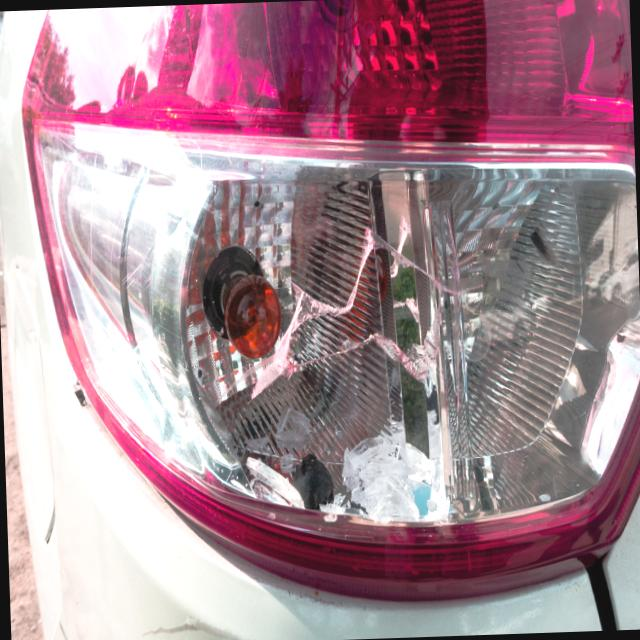Phare abime: (231, 236, 463, 436)
Rayure: (153, 608, 330, 640)
